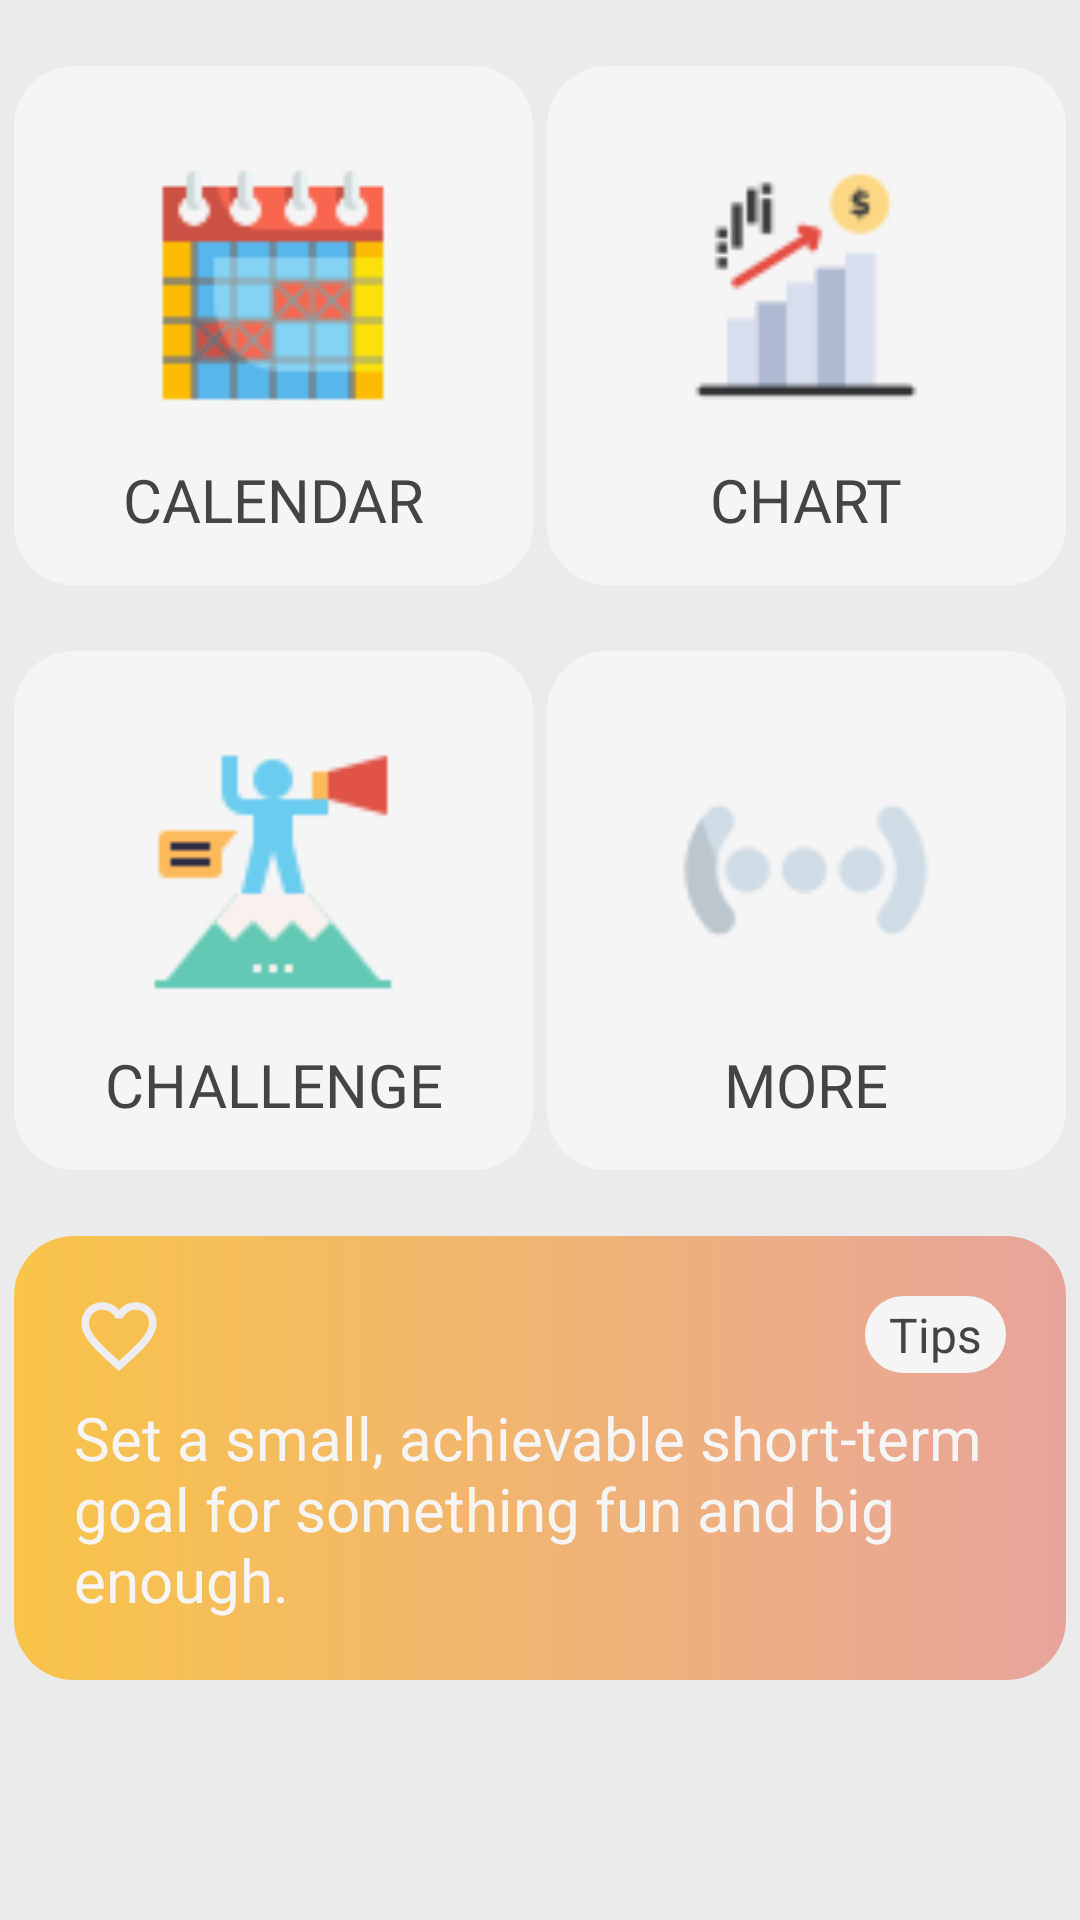

Screen size 1080 x 1920. Icon name, then its center in pixels as (x=x, y=y):
favorite border: (x=119, y=1336)
goal: (x=273, y=872)
